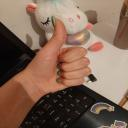ThumbsUp: (28, 14, 94, 93)
